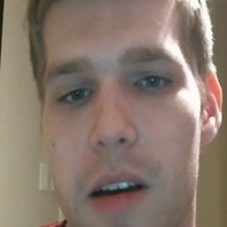awake: (45, 35, 187, 222)
